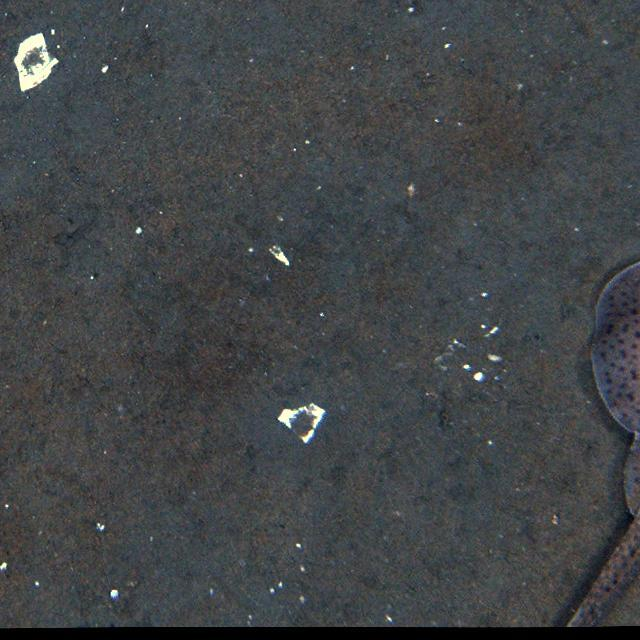skate: (563, 247, 640, 628)
